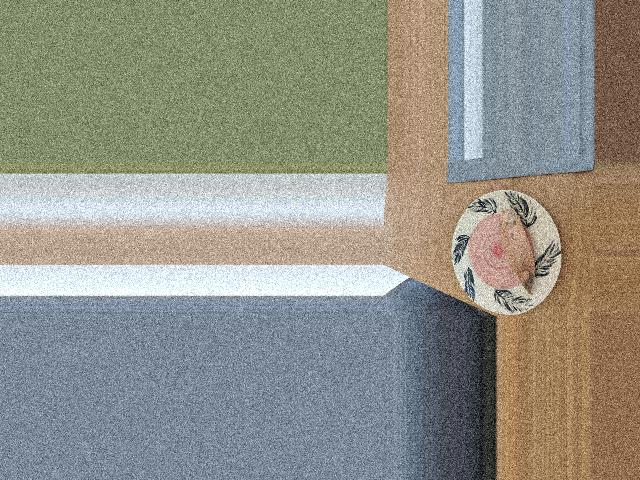sweet_potato: (493, 211, 541, 287)
